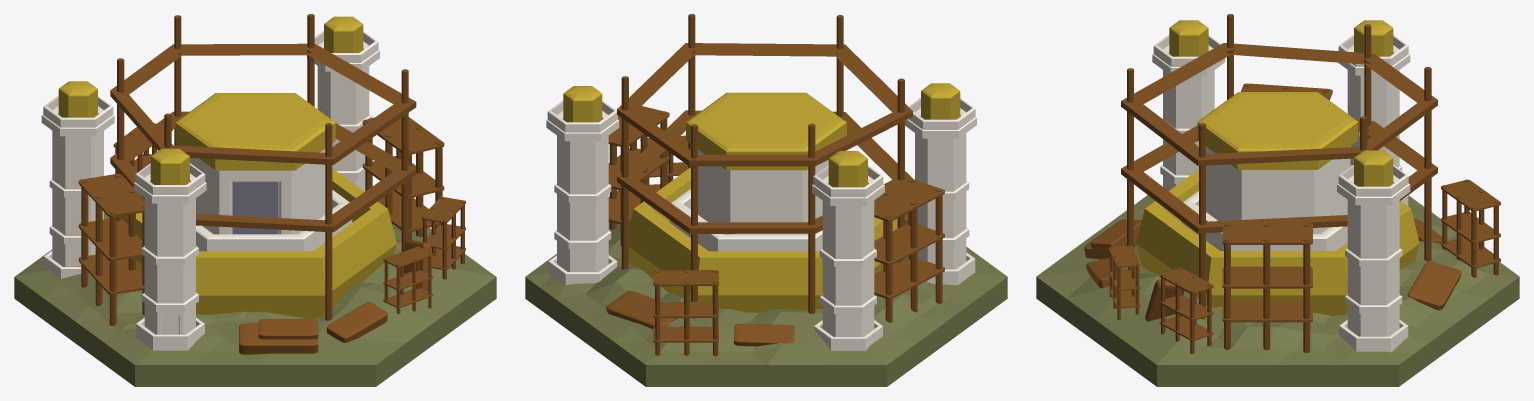
File: hyperstructure_init.glb
3 views of the same model, side by side, from view 1: azimuth 30°, elevation 25°; view 2: azimuth 150°, elevation 25°; view 3: azimuth 270°, elevation 25° (orthographic).
Parts seen in each view (by area): view 1: building, land, big_details; view 2: building, land, big_details; view 3: building, land, big_details.
Part boxes in pixels (x1,y1,x2,y2): building: [41, 14, 416, 350]; land: [14, 212, 496, 386]; big_details: [78, 117, 465, 354]; building: [546, 14, 976, 350]; land: [525, 221, 1007, 386]; big_details: [606, 106, 944, 356]; building: [1121, 14, 1437, 352]; land: [1036, 195, 1519, 386]; big_details: [1084, 83, 1500, 353].
Bounding box in the file's own units: 1.73 × 1.04 × 2.
